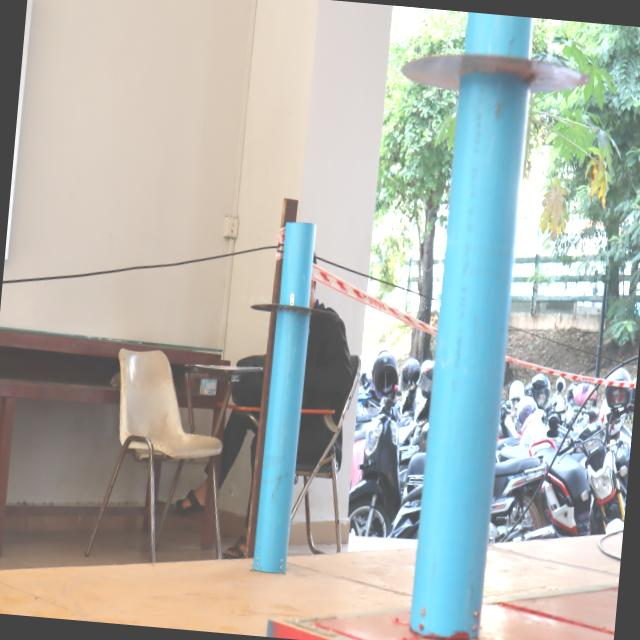pole: (384, 6, 596, 203), (240, 202, 346, 396)
